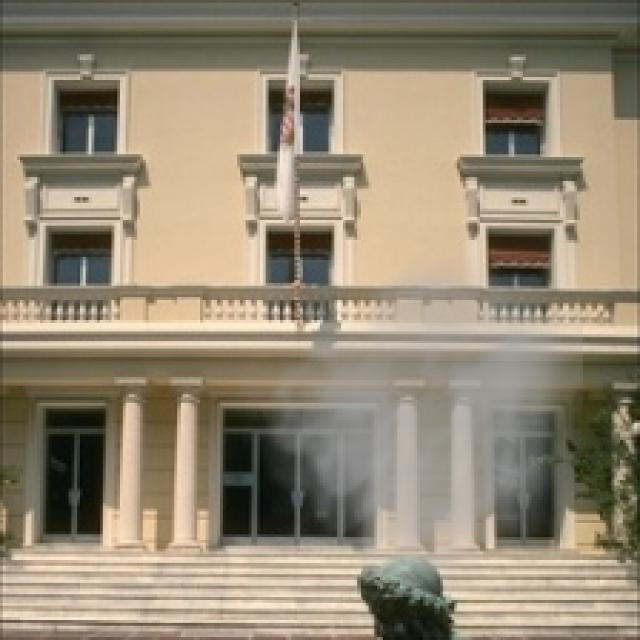smoke: (228, 237, 583, 609)
